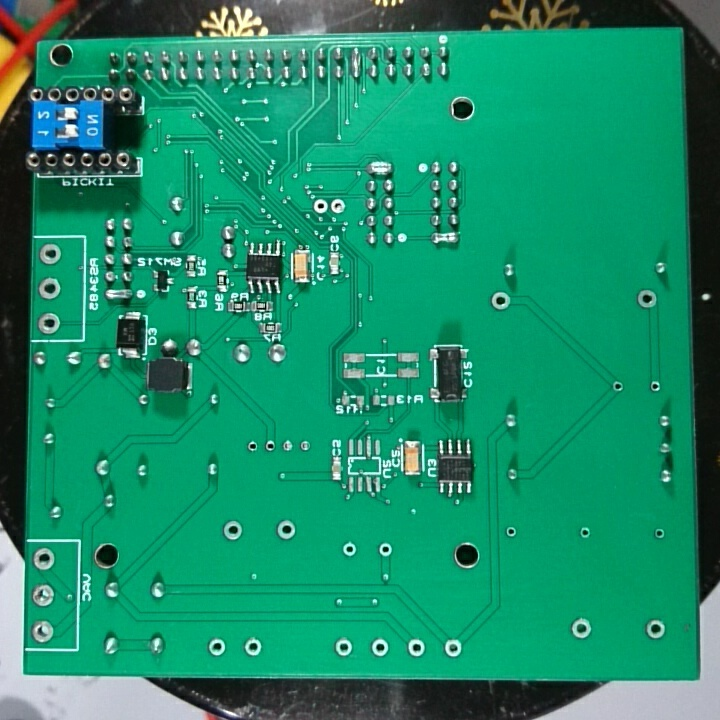F: (35, 274, 65, 303), (27, 618, 59, 645), (28, 545, 57, 574), (30, 583, 59, 610), (569, 615, 596, 643), (35, 240, 64, 266), (34, 312, 63, 336), (487, 289, 515, 313), (633, 287, 658, 311), (643, 616, 667, 641), (221, 518, 244, 543), (441, 636, 464, 660), (404, 636, 427, 660), (241, 635, 264, 658), (368, 636, 390, 660), (276, 518, 297, 543), (333, 636, 355, 659), (328, 195, 349, 219), (207, 635, 227, 658), (341, 540, 359, 563), (376, 539, 393, 562), (295, 438, 316, 455), (312, 195, 329, 216), (501, 522, 519, 541), (646, 378, 663, 398), (279, 437, 296, 455), (652, 524, 667, 544), (244, 438, 261, 455), (262, 437, 278, 455), (609, 379, 624, 395), (578, 523, 591, 541)
P: (428, 229, 462, 247), (349, 45, 364, 80), (102, 286, 136, 301), (365, 157, 394, 174)
